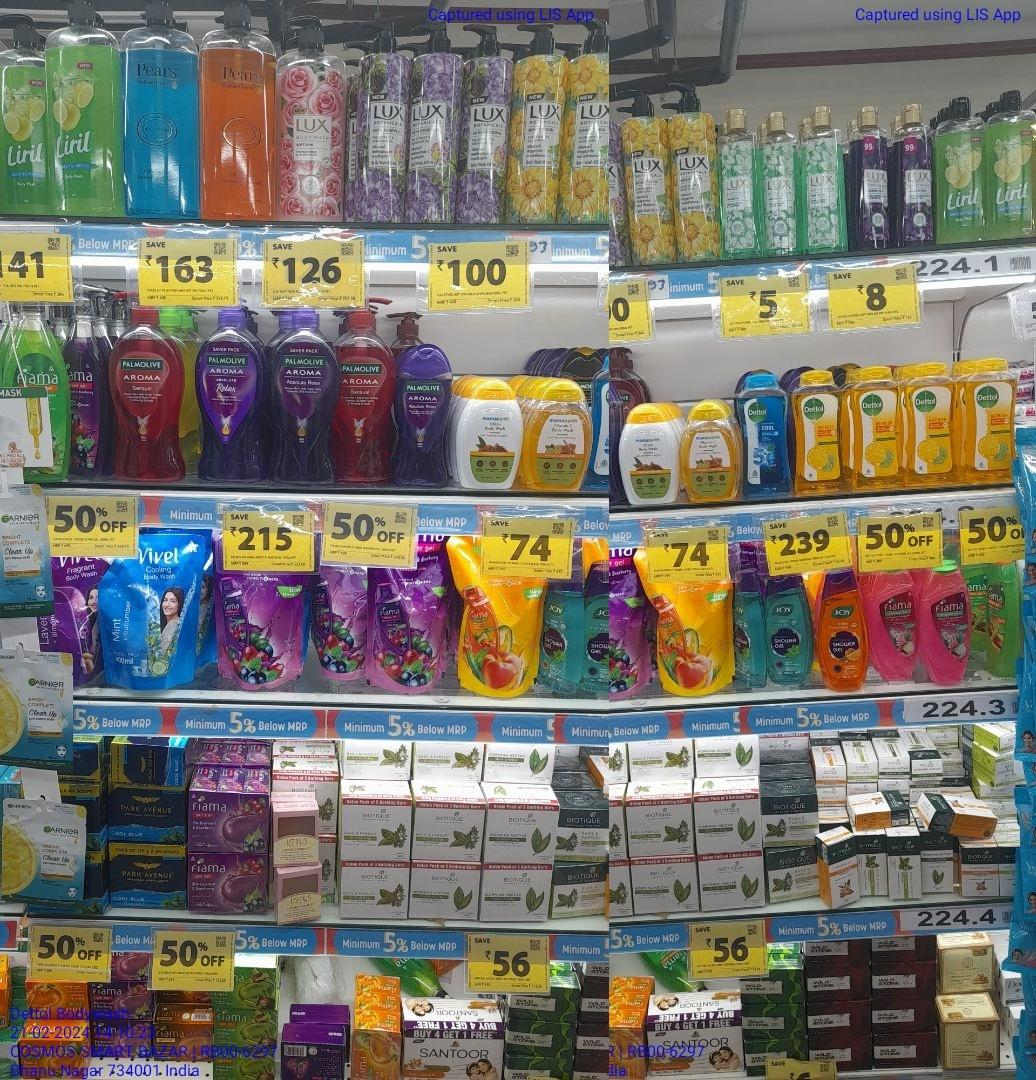Dettol_Bodywash_Cool: (742, 373, 791, 497)
Dettol_Bodywash_Refresh: (961, 357, 1011, 481), (906, 363, 953, 486), (850, 364, 896, 487), (795, 375, 841, 494)
Fiama_Shower_Gel_Patchouli_and_Macadamia_250ML: (926, 571, 970, 683), (874, 573, 920, 680)
Joy_Shower_Gel_Mandarin_and_Lemongrass_250ML: (818, 571, 868, 691)
Joy_Shower_Gel_Mint_and_Eucalyptus_250ML: (771, 570, 811, 683), (545, 581, 582, 692), (734, 579, 768, 689)
Liril_Lime_and_Tea_Tree_Oil_Body_Wash_250ML: (988, 92, 1036, 236), (940, 93, 983, 247)
Lux_Black_Orchid_Scent_and_Juniper_Oil_Body_Wash_245ML: (851, 98, 891, 251), (896, 96, 934, 248)
Lux_Body_Wash_Skin_Detox_Freesia_Scent_and_Alove_Vera_245ML: (719, 111, 765, 259), (804, 102, 845, 250), (768, 110, 799, 256)
Palmolive_Aroma_Relax_250ML: (394, 342, 448, 486)
